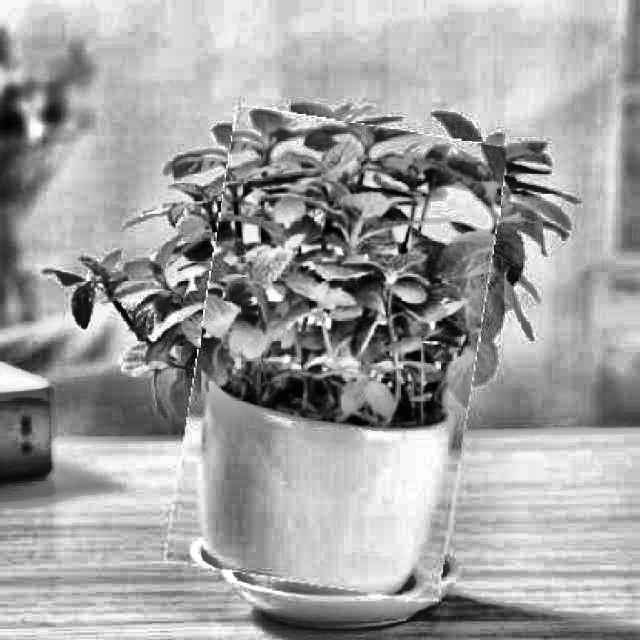plants: (182, 114, 490, 594)
